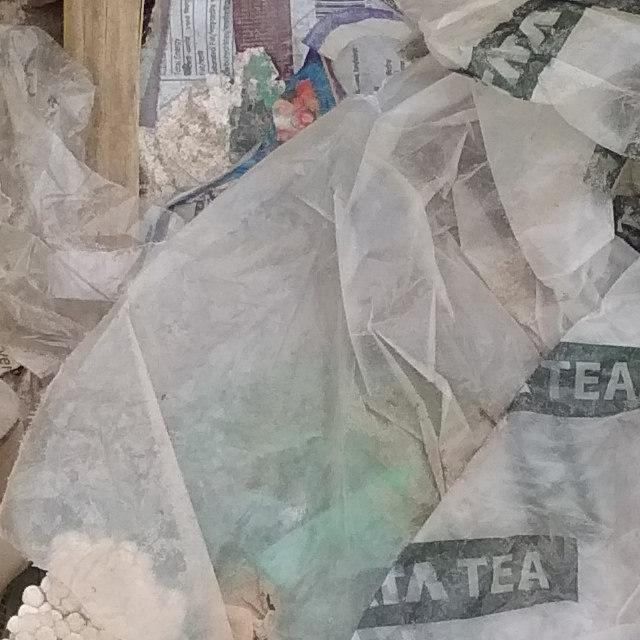plastic: (0, 54, 640, 640), (88, 0, 507, 180)
